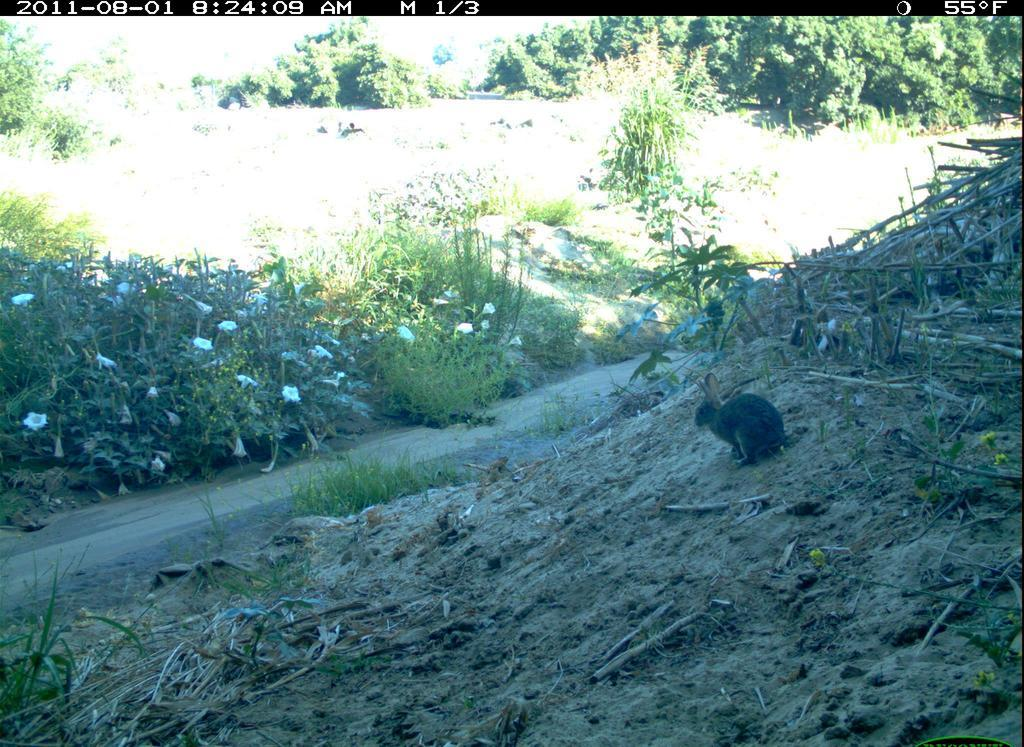rabbit: (690, 370, 793, 472)
